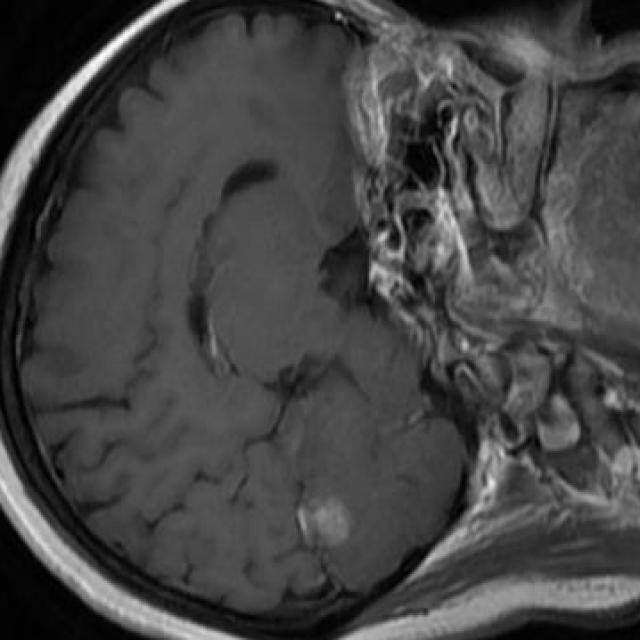meningioma: (299, 499, 351, 547)
